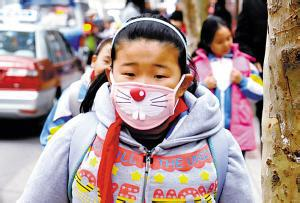NONE: (215, 37, 232, 56)
OK: (112, 57, 181, 124)
